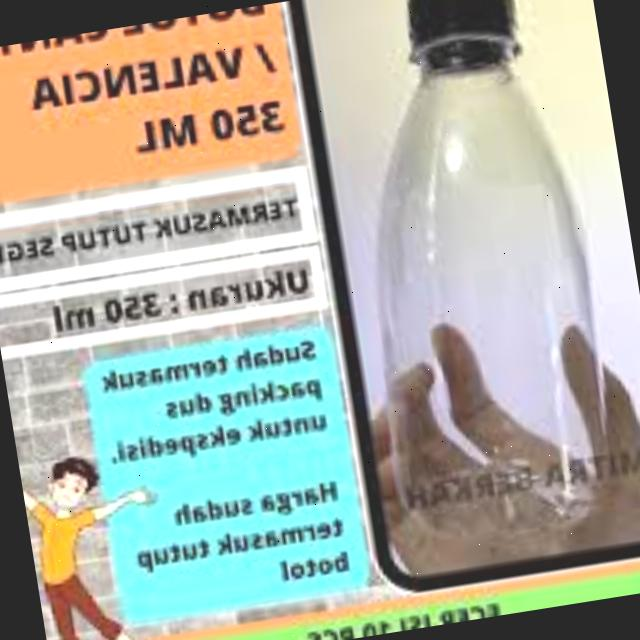trash: (311, 0, 634, 562)
